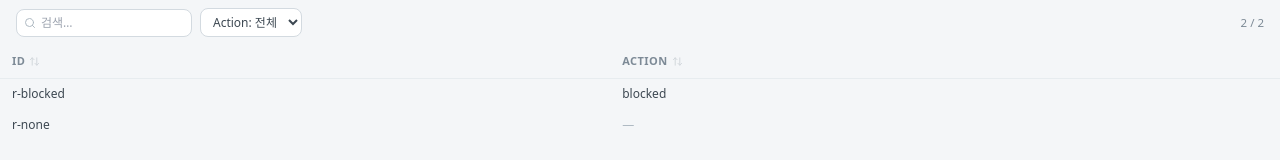
MetricTable — empty facetValues fallback › offers a "—" facet option and filters to the empty-array row when selected
Select "—" in the dropdown named "Action 필터" at {"x": 251, "y": 22}, box left=200, top=8, right=302, bottom=37
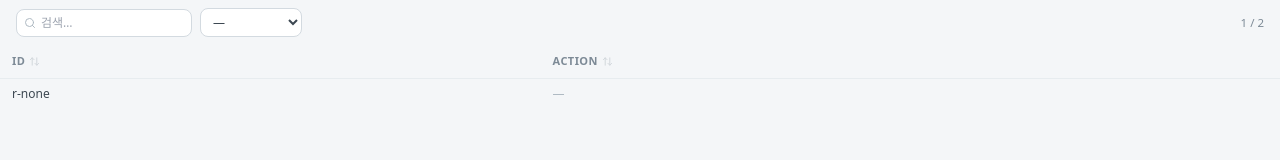
Check: the text "r-none" is shown, box left=0, top=78, right=541, bottom=108
Check: the text "r-blocked" is gone
